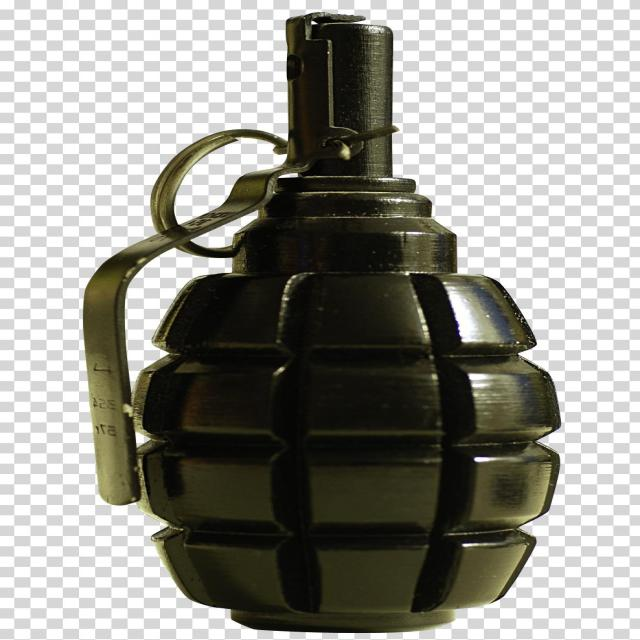grenade: (81, 13, 565, 634)
